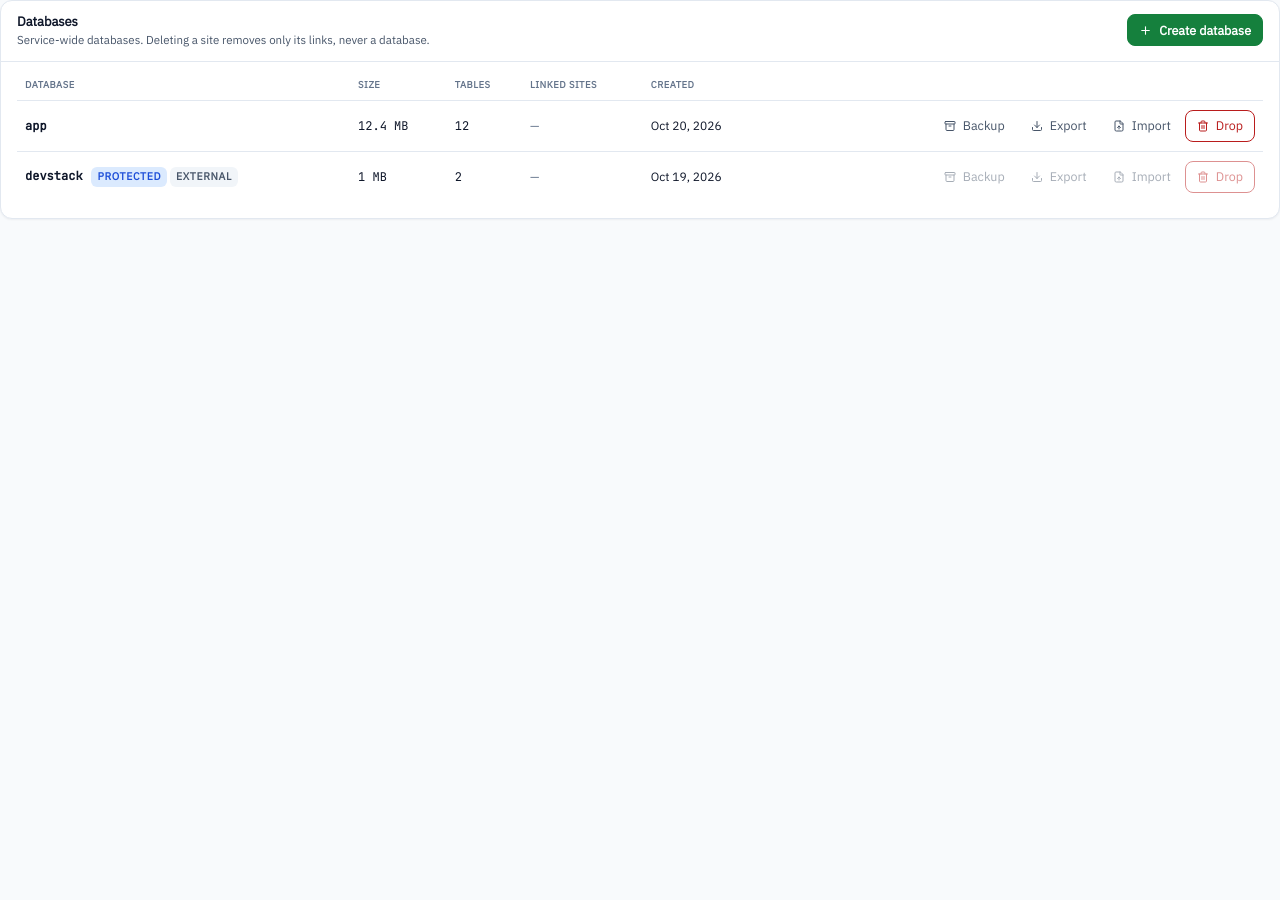
DatabaseTab › requires the exact database name before dropping
The image size is (1280, 900).
Click the button with aria-label "drop app".
click(1220, 126)  # box [1185,110,1255,142]
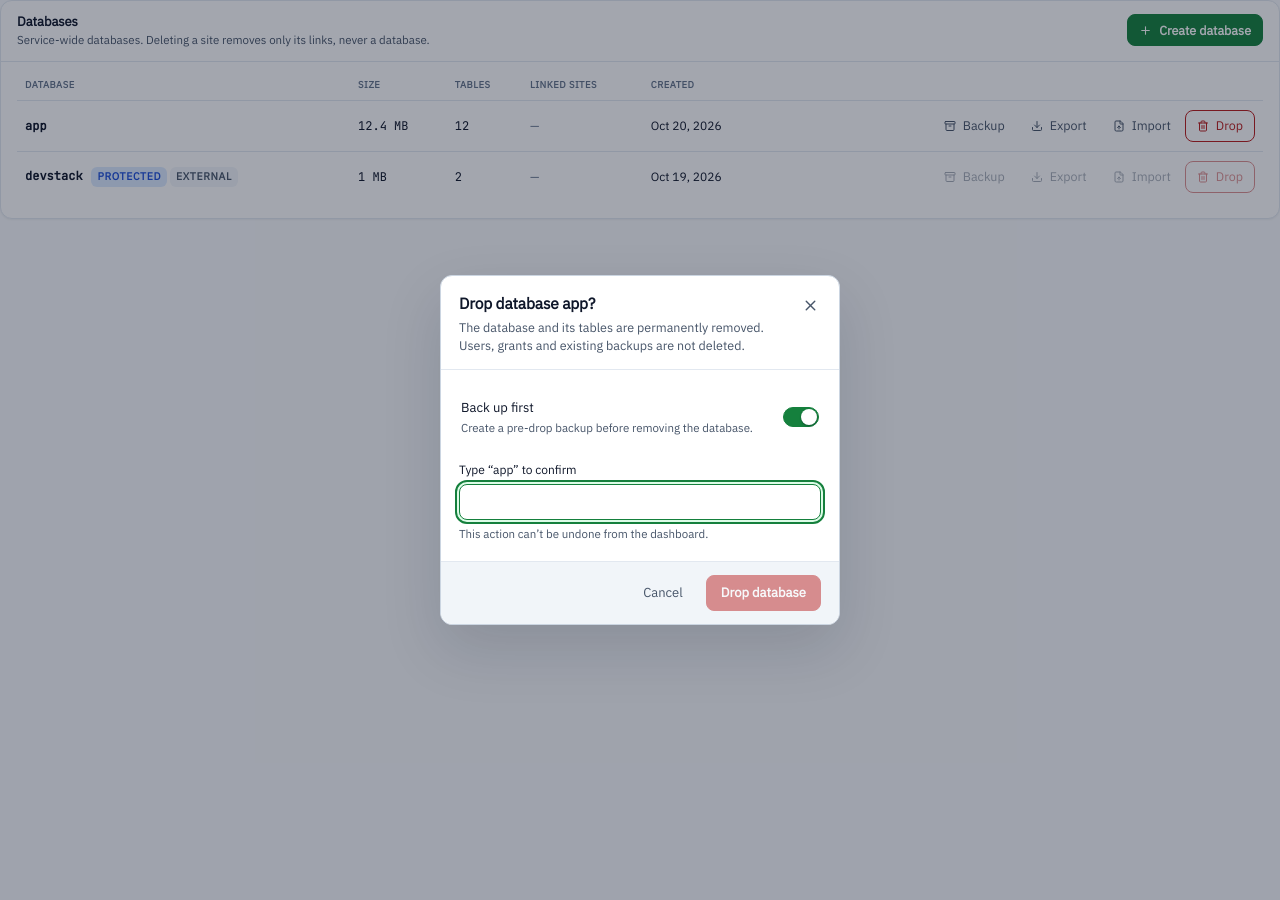
Result: the button "Drop database" is disabled at [706,575,821,611]
Type "app" into the field labelled "Type “app” to confirm".
click(640, 502); type("app")  # box [459,484,821,520]
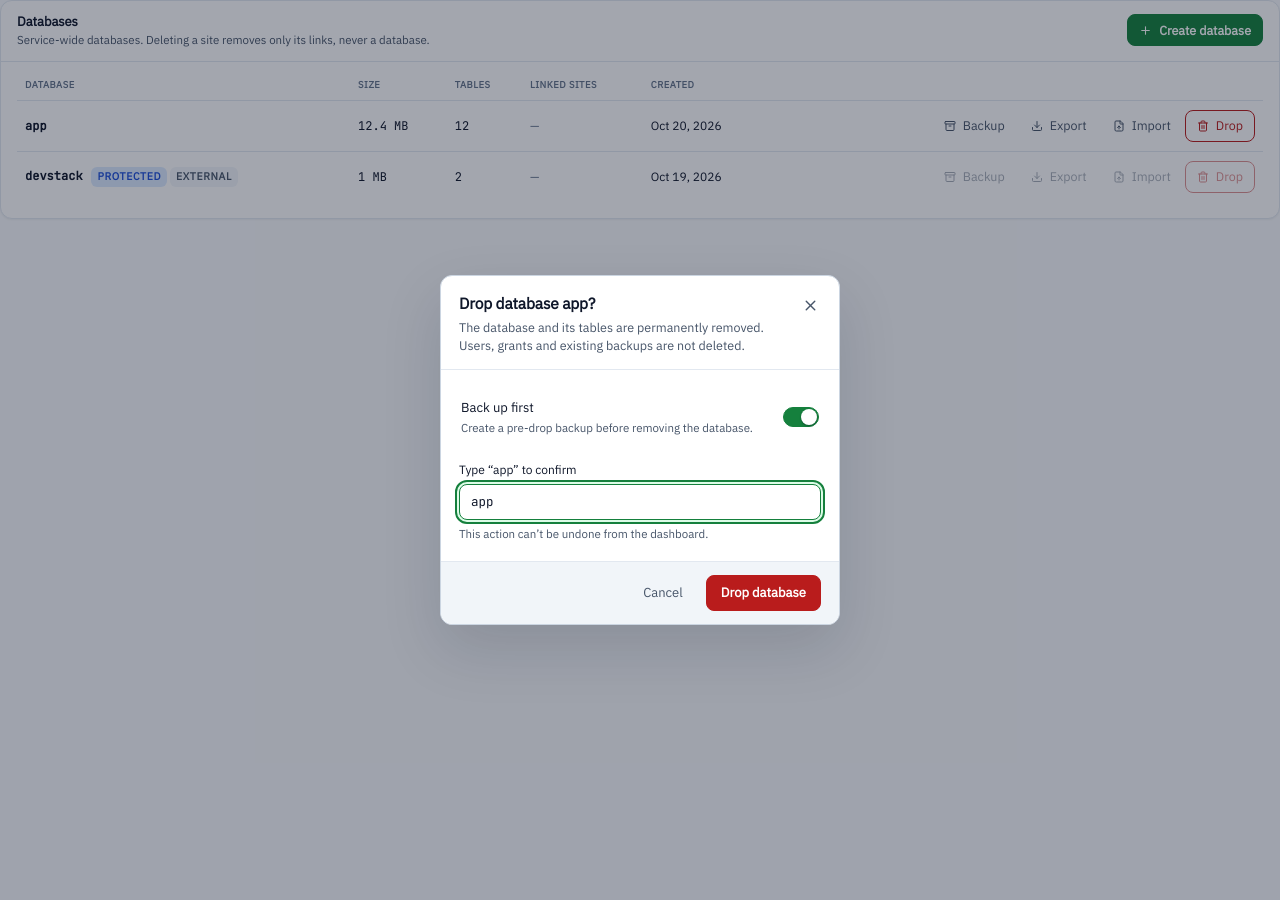
Result: the button "Drop database" is enabled at [706,575,821,611]
